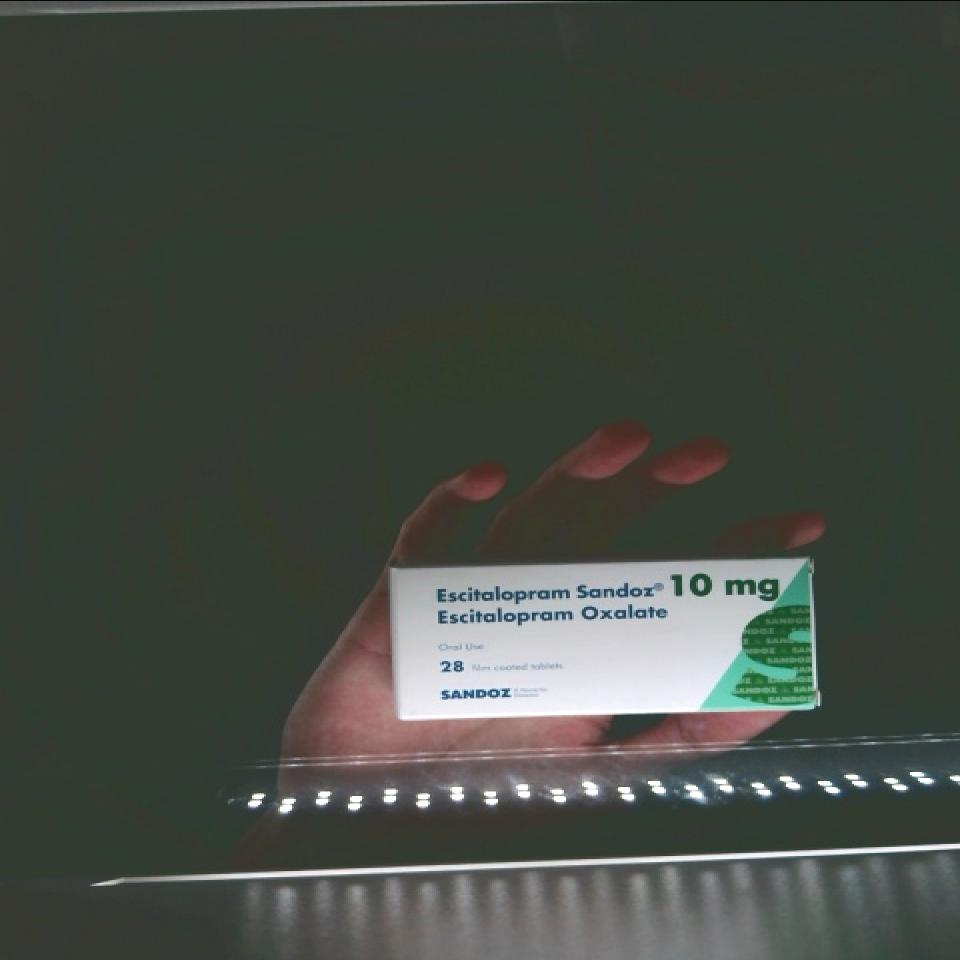medicine_box: (396, 559, 818, 716)
medicine_label_obb: (406, 560, 680, 639)
